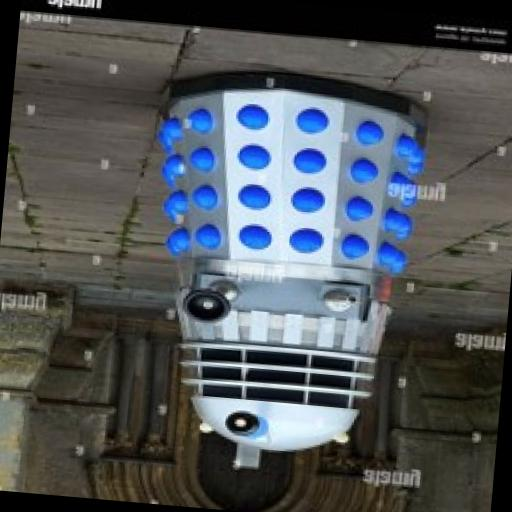dalek: (132, 68, 434, 473)
